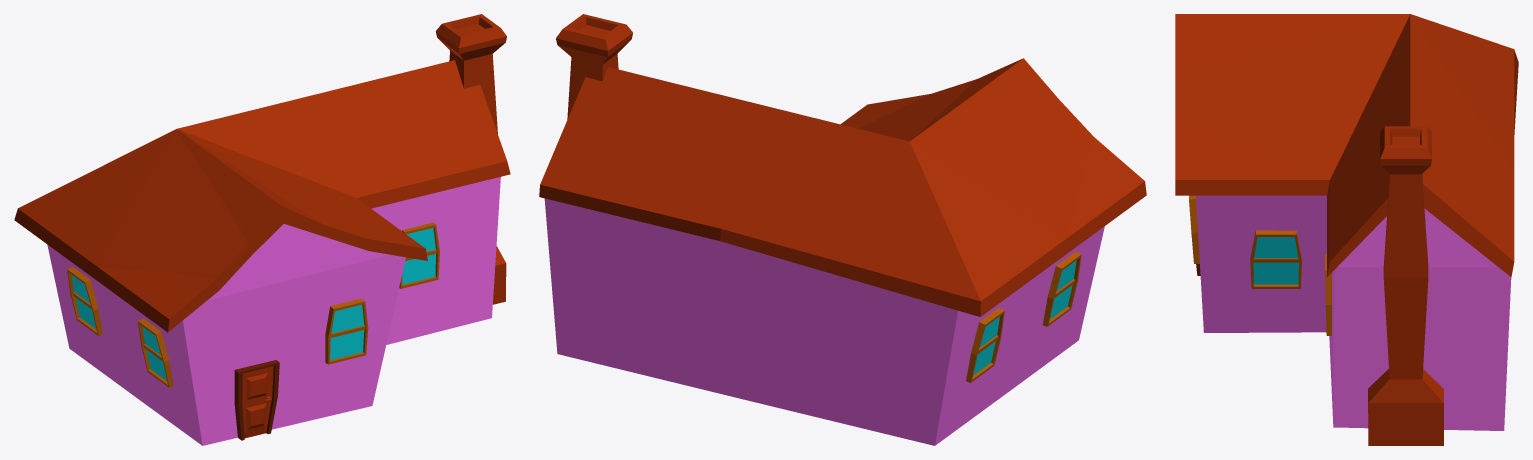
File: Casa1.fbx
3 views of the same model, side by side, from view 1: azimuth 30°, elevation 25°; view 2: azimuth 150°, elevation 25°; view 3: azimuth 270°, elevation 25° (orthographic). The views are drawn at different scales.
Parts seen in each view (by area): view 1: Casa1; view 2: Casa1; view 3: Casa1.
Boxes of the visible parts, x1,y1,x2,y2 form: Casa1: [14, 14, 510, 445]; Casa1: [539, 14, 1146, 445]; Casa1: [1175, 14, 1518, 445].
Size of the model in its own units: 1358 by 807 by 838.
